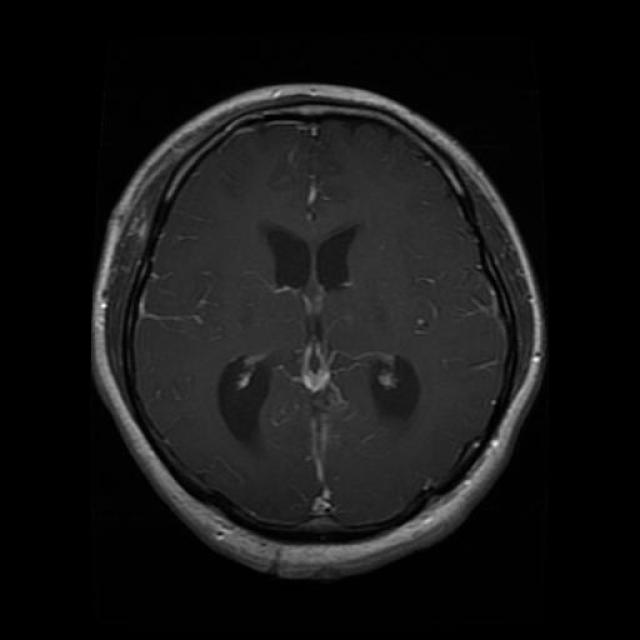glioma: (249, 180, 378, 342)
